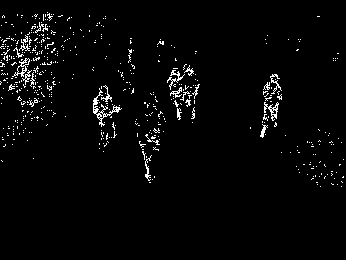person: (133, 91, 166, 184), (91, 84, 121, 155), (259, 73, 284, 138), (177, 63, 201, 124), (167, 65, 185, 122)
